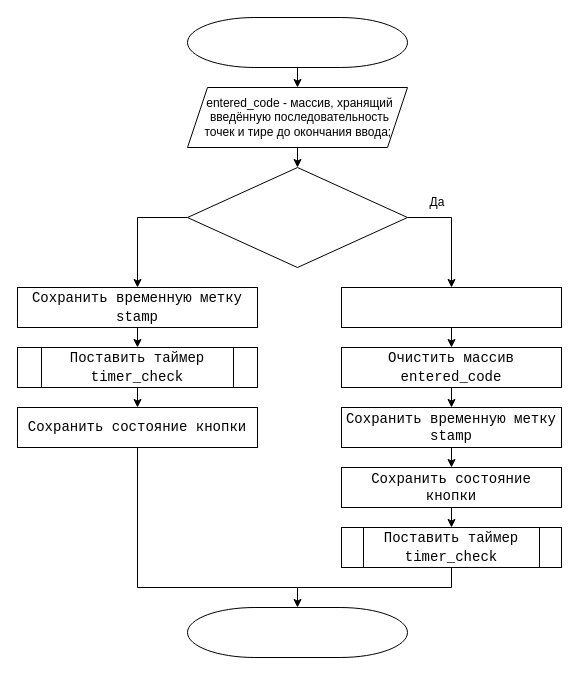
This 579x675 diagram has some shape labels left out. The shapes that lost their labels are listed below. From the top down, each one's box as (x1, y1, x2, y2) in pixels, then its label:
(186, 16, 408, 68): Начало
(186, 166, 408, 268): Обработчик в состоянии ожидания?
(340, 286, 562, 328): Перевести обработчик в состояние ввода
(186, 606, 408, 658): Конец
